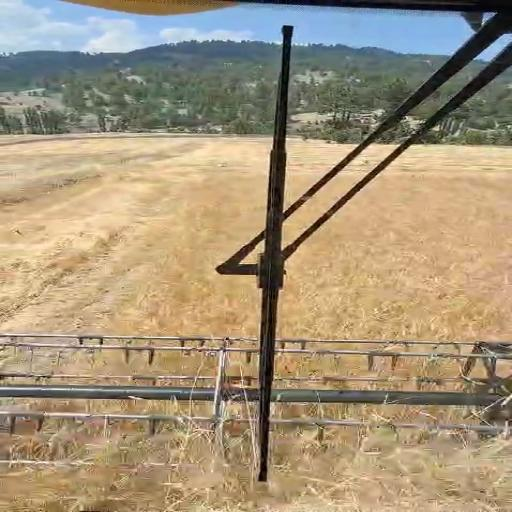bugday: (0, 136, 269, 336), (0, 422, 511, 511), (278, 146, 510, 339)
